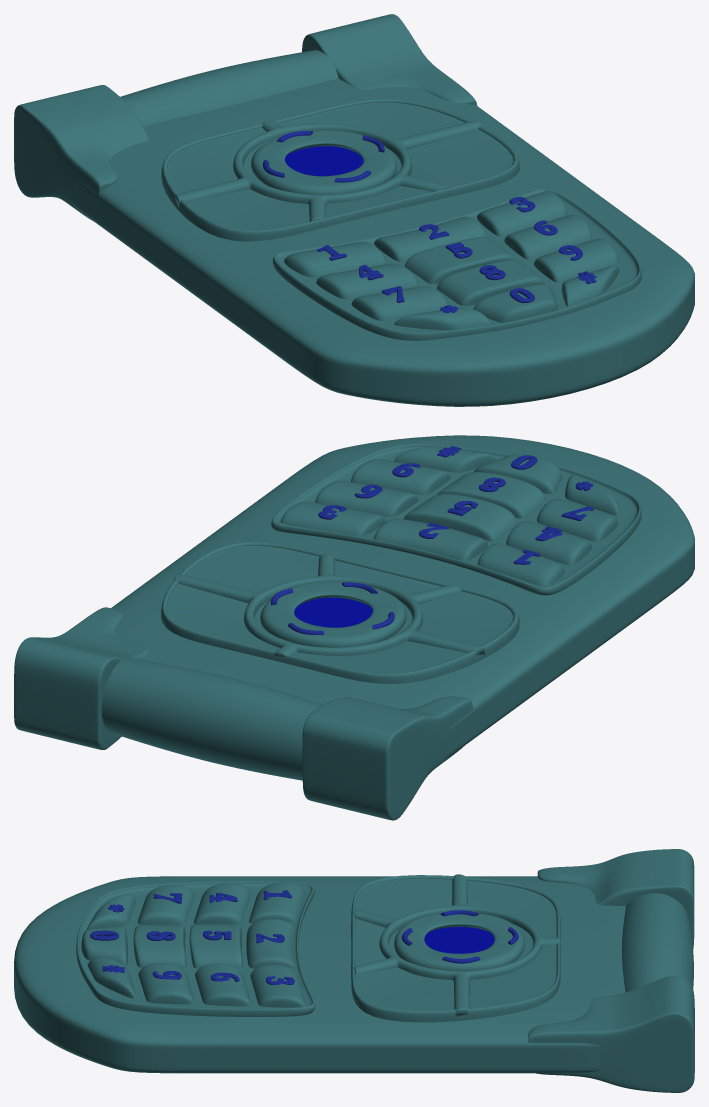
File: phone-base.obj
3 renders of one model, top to bottom at view 1: azimuth 30°, elevation 25°; view 2: azimuth 150°, elevation 25°; view 3: azimuth 270°, elevation 25°, orthographic. The views are drawn at different scales.
Visible parts, largest first — view 1: cube-006, cube-007, cube-003, cube-001, cylinder, cube-002, cube-004, cylinder-001, cube-016, cube-013, cube-010, cube-011 (+8 smaller); view 2: cube-006, cube-007, cylinder, cube-003, cube-002, cube-001, cube-004, cylinder-001, cube-013, cube-010, cube-016, cube-009 (+8 smaller); view 3: cube-006, cube-007, cube-002, cube-001, cube-003, cube-004, cylinder, cylinder-001, cube-010, cube-013, cube-016, cube-008 (+8 smaller).
Boxes of the visible parts, bbox=[...] form: cube-006: bbox=[70, 78, 694, 406]; cube-007: bbox=[161, 98, 519, 241]; cube-003: bbox=[14, 85, 149, 220]; cube-001: bbox=[273, 189, 641, 340]; cylinder: bbox=[120, 50, 338, 126]; cube-002: bbox=[302, 14, 477, 105]; cube-004: bbox=[251, 130, 397, 194]; cylinder-001: bbox=[175, 120, 482, 221]; cube-016: bbox=[436, 260, 545, 305]; cube-013: bbox=[404, 237, 515, 283]; cube-010: bbox=[374, 216, 486, 261]; cube-011: bbox=[284, 241, 386, 277]; cube-006: bbox=[111, 435, 694, 758]; cube-007: bbox=[161, 542, 519, 683]; cylinder: bbox=[101, 657, 323, 780]; cube-003: bbox=[302, 696, 472, 820]; cube-002: bbox=[14, 607, 149, 749]; cube-001: bbox=[271, 444, 641, 595]; cube-004: bbox=[260, 581, 406, 647]; cylinder-001: bbox=[173, 554, 485, 657]; cube-013: bbox=[404, 494, 517, 541]; cube-010: bbox=[373, 518, 487, 561]; cube-016: bbox=[437, 472, 546, 518]; cube-009: bbox=[315, 480, 418, 517]; cube-006: bbox=[14, 876, 625, 1073]; cube-007: bbox=[351, 875, 560, 1022]; cube-002: bbox=[528, 976, 694, 1092]; cube-001: bbox=[76, 881, 315, 1016]; cube-003: bbox=[537, 849, 694, 949]; cube-004: bbox=[394, 913, 524, 970]; cylinder: bbox=[621, 893, 693, 992]; cylinder-001: bbox=[353, 874, 560, 1016]; cube-010: bbox=[246, 919, 295, 968]; cube-013: bbox=[189, 924, 242, 968]; cube-016: bbox=[133, 924, 186, 968]; cube-008: bbox=[250, 964, 305, 1007].
Bounding box in the file's own units: 0.3453 × 0.0788 × 0.5944.
